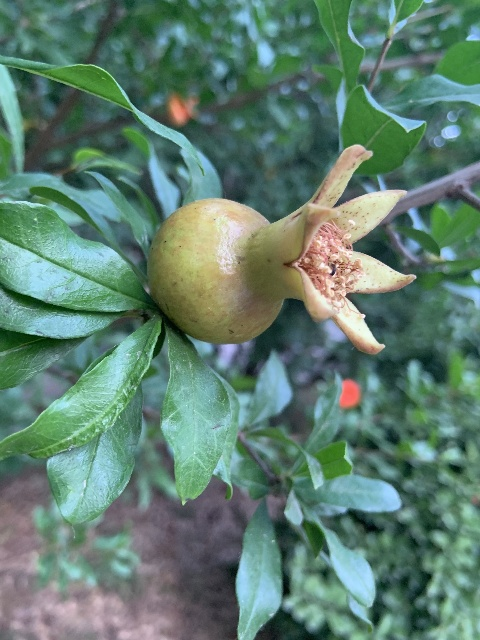early-fruit: (150, 143, 417, 356)
